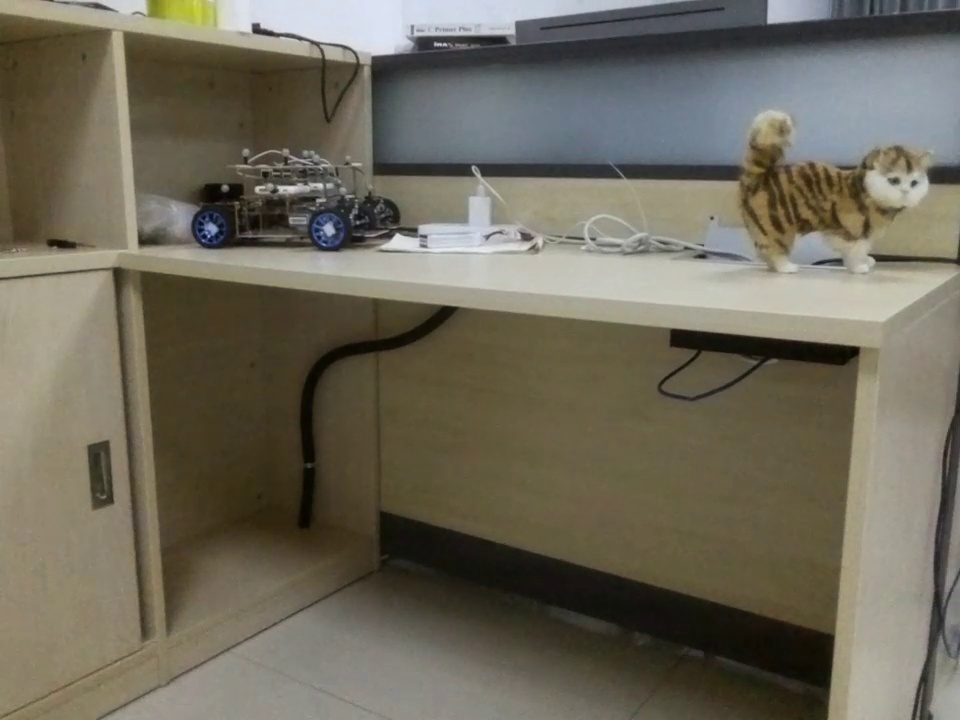cat: (737, 100, 954, 281)
